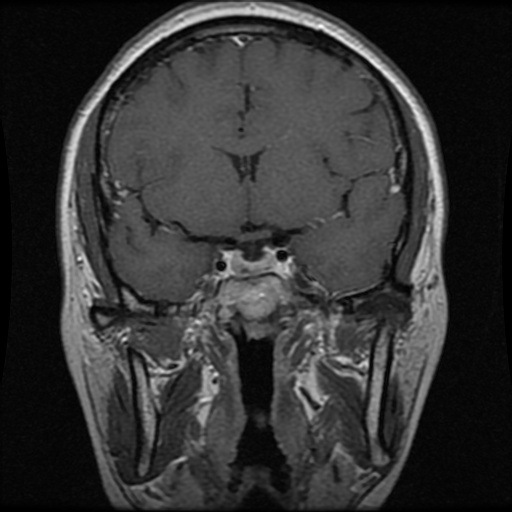pituitary: (226, 249, 277, 277)
